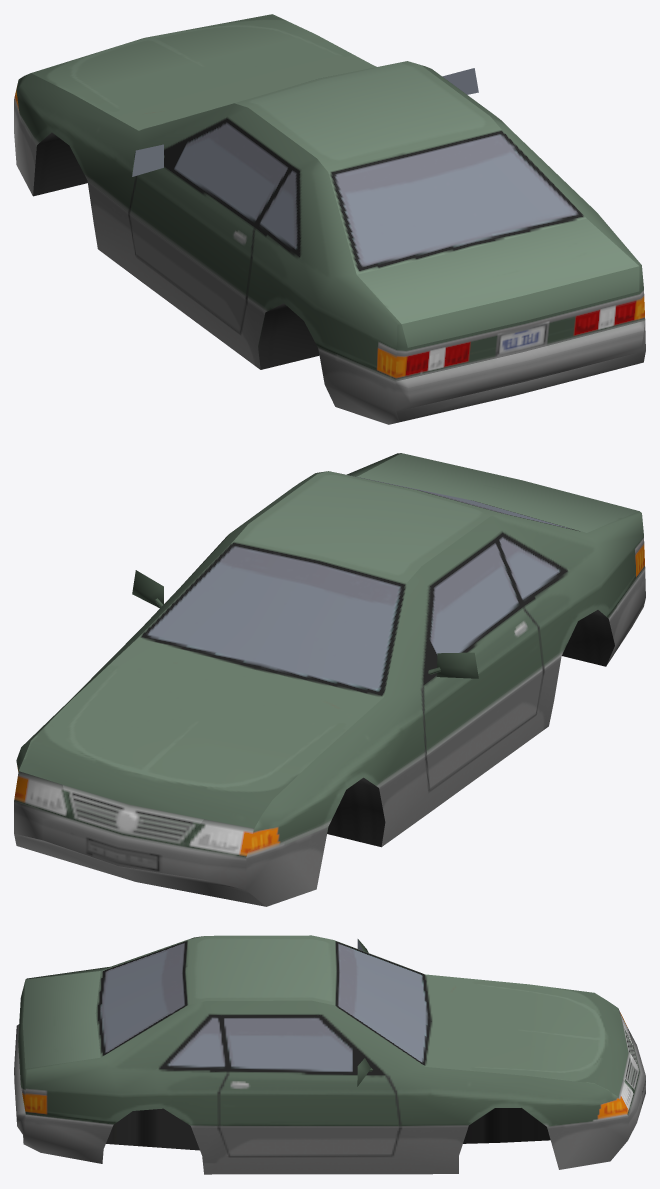
The model's file is Vehicles_LuxuryCar.FBX.
3 views of the same model, one above another, from view 1: azimuth 30°, elevation 25°; view 2: azimuth 150°, elevation 25°; view 3: azimuth 270°, elevation 25° (orthographic). The views are drawn at different scales.
Parts seen in each view (by area): view 1: Vehicles_LuxuryCar; view 2: Vehicles_LuxuryCar; view 3: Vehicles_LuxuryCar.
Part boxes in pixels (x1,y1,x2,y2): Vehicles_LuxuryCar: (14,14,645,424); Vehicles_LuxuryCar: (14,453,645,906); Vehicles_LuxuryCar: (14,935,645,1174).
Bounding box in the file's own units: 115 × 63.55 × 236.
1 material, 1 textured.
